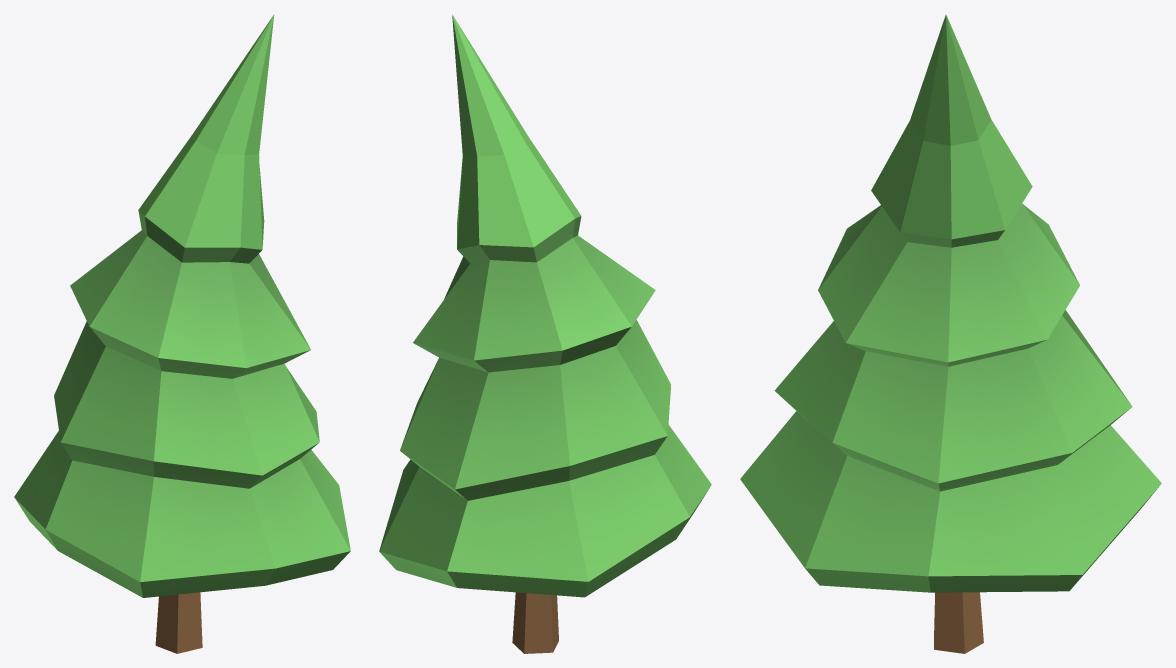
File: Fir_Tree_m_07.fbx
3 renders of one model, left to right at view 1: azimuth 30°, elevation 25°; view 2: azimuth 150°, elevation 25°; view 3: azimuth 270°, elevation 25°, orthographic. The views are drawn at different scales.
Visible parts, largest first — view 1: Fir_Tree_m_07; view 2: Fir_Tree_m_07; view 3: Fir_Tree_m_07.
Part boxes in pixels (x1=…): Fir_Tree_m_07: x1=14, y1=14, x2=350, y2=653; Fir_Tree_m_07: x1=379, y1=15, x2=711, y2=653; Fir_Tree_m_07: x1=740, y1=14, x2=1161, y2=653.
Size of the model in its own units: 391 by 784 by 443.
